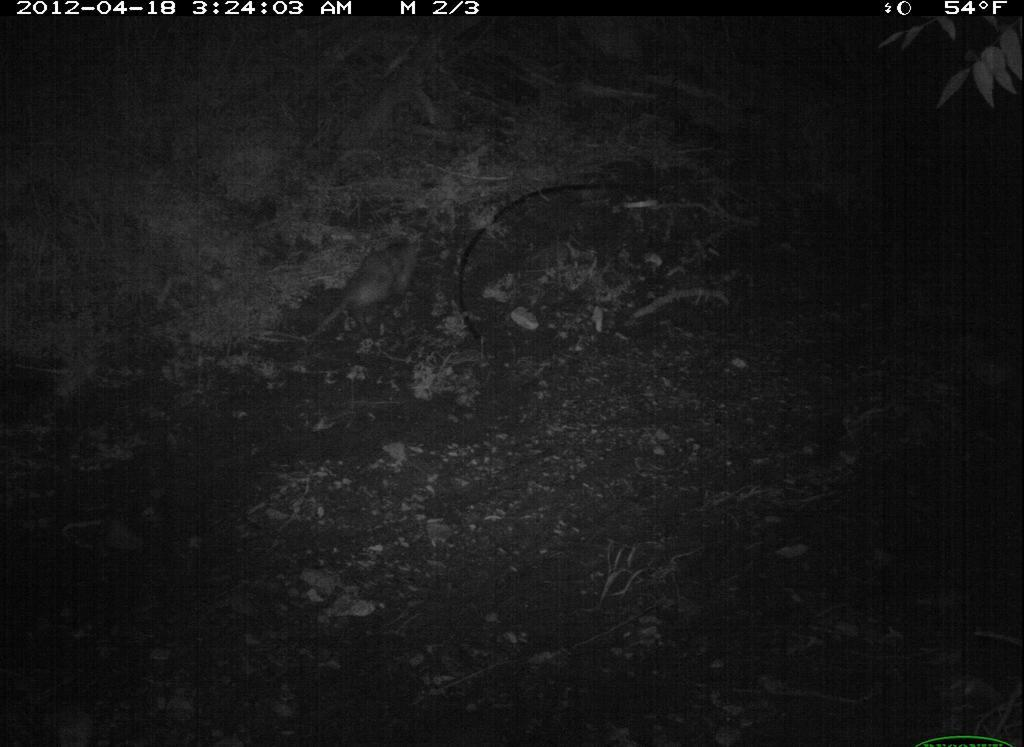opossum: (305, 222, 433, 347)
